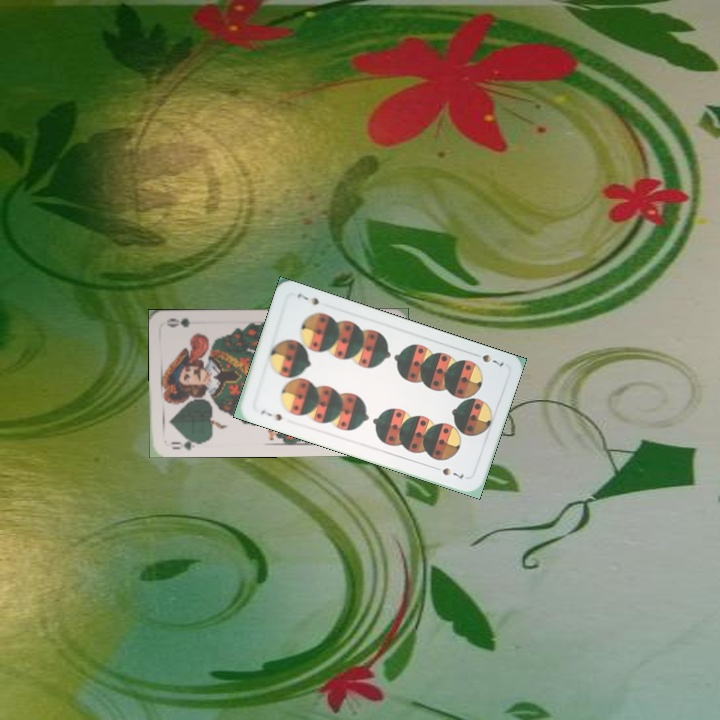GO: (166, 433, 204, 453)
S7: (478, 350, 507, 369), (257, 406, 285, 423)
